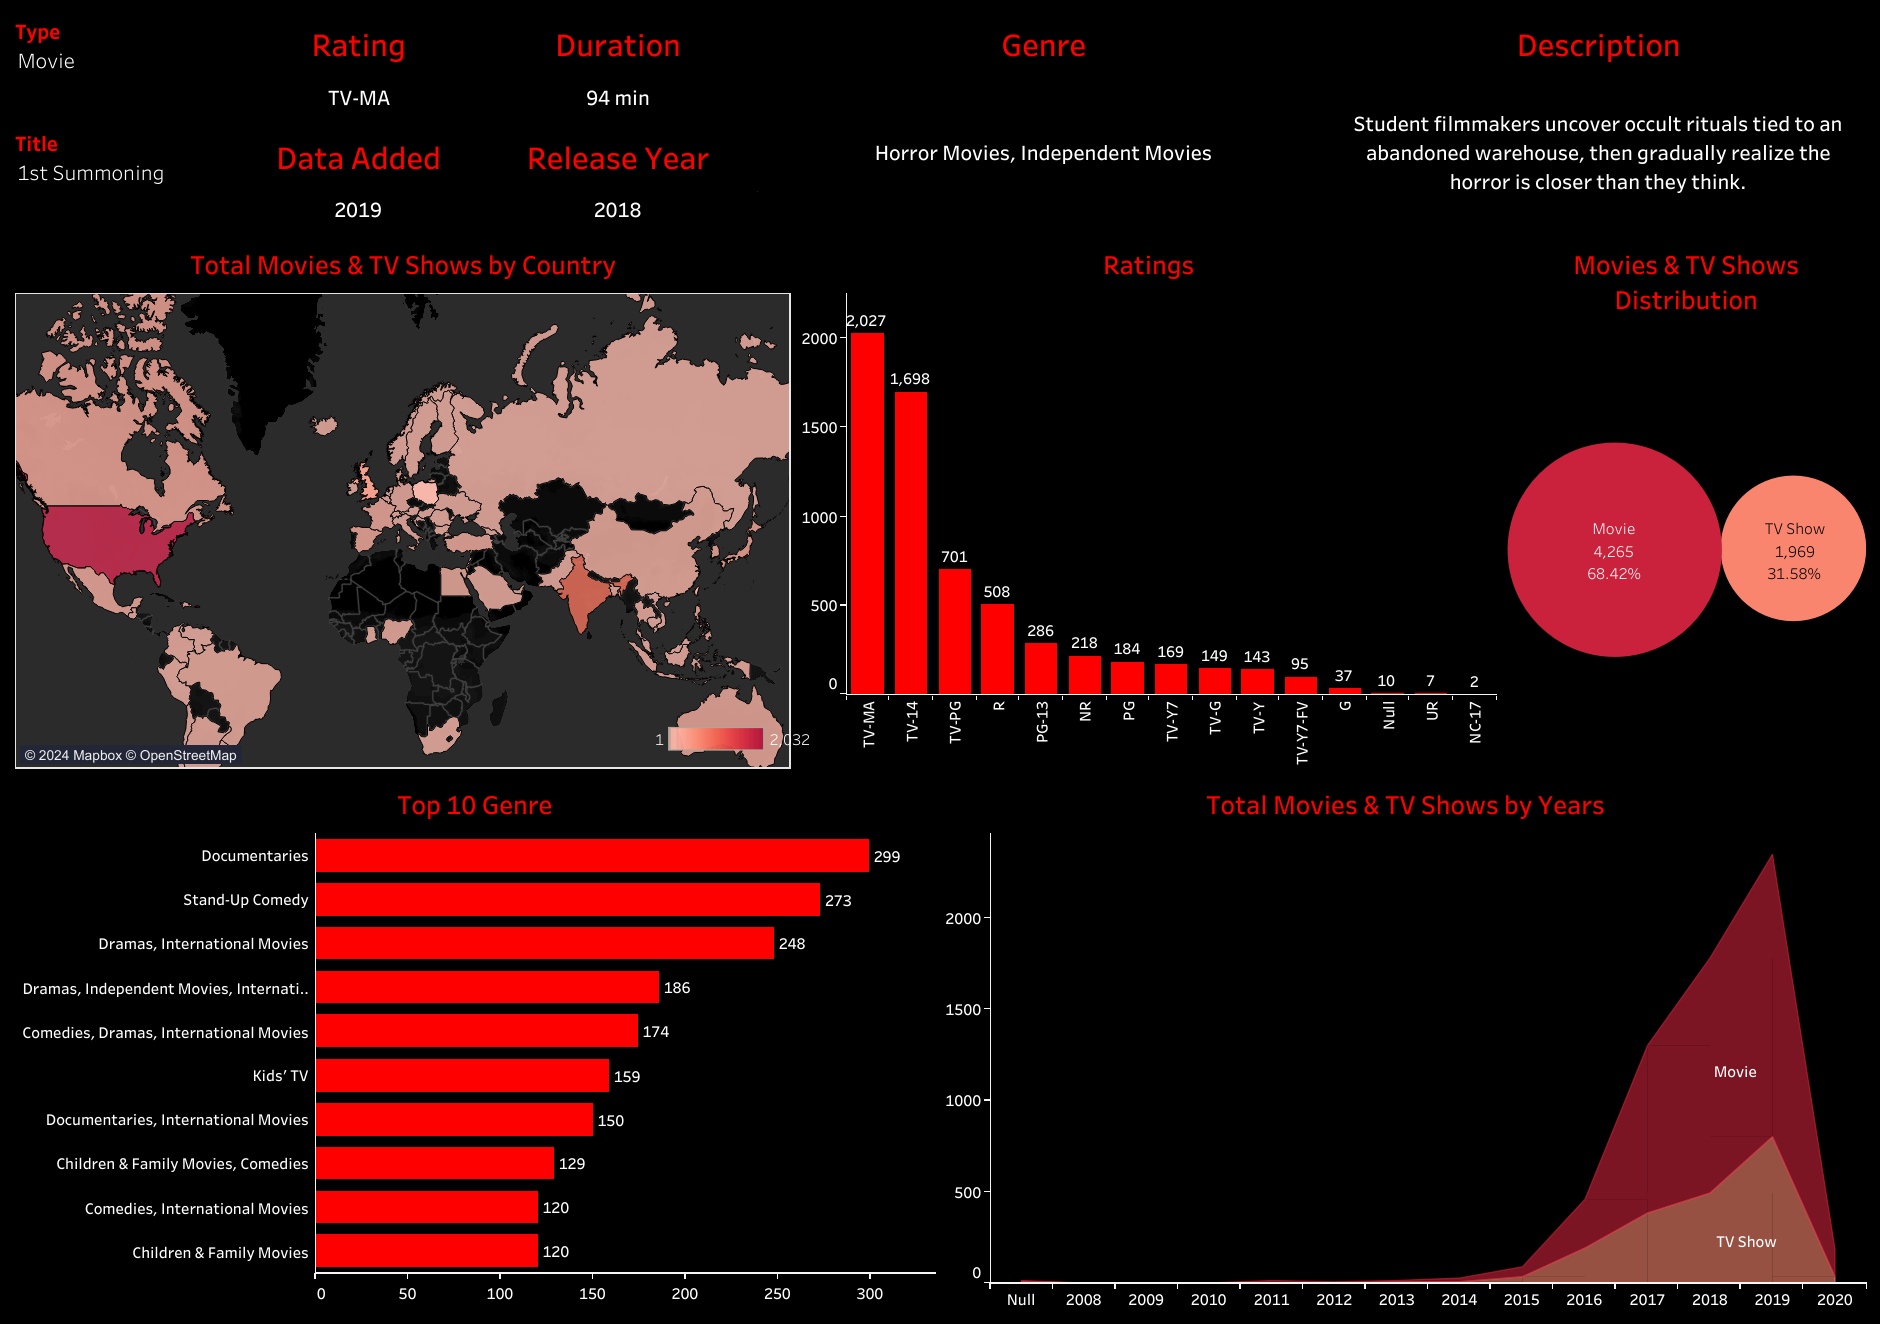

The page's visual inventory and layout, read from the dashboard file:
{"tool":"tableau","page":{"name":"Netflix","canvas":[1000,1000],"units":"permille","ordinal":0},"visuals":[{"type":"filter","title":"Description","param":"[federated.14z8bpn1iibscj1fbzpi71k5y1hq].[none:type:nk]","box":[4.9,7.5,123.8,84.9]},{"type":"worksheet","title":"Rating","mark":"Automatic","box":[128.7,7.5,123.8,84.9]},{"type":"worksheet","title":"Duration","mark":"Automatic","box":[252.4,7.5,151.8,84.4]},{"type":"worksheet","title":"Genre","mark":"Automatic","box":[404.3,7.5,300.9,168.9]},{"type":"worksheet","title":"Description","mark":"Automatic","box":[705.2,7.5,289.9,168.9]},{"type":"worksheet","title":"Release Year","mark":"Automatic","box":[252.4,92,151.8,84.4]},{"type":"filter","title":"Description","param":"[federated.14z8bpn1iibscj1fbzpi71k5y1hq].[none:title:nk]","box":[4.9,92.5,123.8,84]},{"type":"worksheet","title":"Date Added","mark":"Automatic","box":[128.7,92.5,123.8,84]},{"type":"worksheet","title":"Total Movies & TV Shows by Country","mark":"Multipolygon","box":[4.9,176.4,418.4,408]},{"type":"worksheet","title":"Ratings","mark":"Automatic","rows":["show_id"],"cols":["rating"],"box":[423.2,176.4,375,408]},{"type":"worksheet","title":"Movies & TV Shows Distribution","mark":"Circle","box":[798.3,176.4,196.8,408]},{"type":"legend","title":"Total Movies & TV Shows by Country","param":"[federated.14z8bpn1iibscj1fbzpi71k5y1hq].[ctd:show_id:qk]","box":[345.6,545.3,88.1,44.3]},{"type":"worksheet","title":"Top 10 Genre","mark":"Automatic","rows":["listed_in"],"cols":["show_id"],"box":[4.9,584.4,495.1,408]},{"type":"worksheet","title":"Total Movies & TV Shows by Years","mark":"Area","rows":["show_id"],"cols":["date_added"],"box":[500,584.4,495.1,408]}]}

Visuals, with their boxes on the dashboard's canvas, which has no fixed pixel size, in thousandths of its width and height (x1, y1, x2, y2). These are canvas units, not pixel positions in the 1880x1324 screenshot, which may show the page scaled, cropped or inside an application window:
"Description" filter: <bbox>5, 8, 129, 92</bbox>
"Rating" worksheet: <bbox>129, 8, 252, 92</bbox>
"Duration" worksheet: <bbox>252, 8, 404, 92</bbox>
"Genre" worksheet: <bbox>404, 8, 705, 176</bbox>
"Description" worksheet: <bbox>705, 8, 995, 176</bbox>
"Release Year" worksheet: <bbox>252, 92, 404, 176</bbox>
"Description" filter: <bbox>5, 92, 129, 176</bbox>
"Date Added" worksheet: <bbox>129, 92, 252, 176</bbox>
"Total Movies & TV Shows by Country" worksheet (Multipolygon marks): <bbox>5, 176, 423, 584</bbox>
"Ratings" worksheet: <bbox>423, 176, 798, 584</bbox>
"Movies & TV Shows Distribution" worksheet (Circle marks): <bbox>798, 176, 995, 584</bbox>
"Total Movies & TV Shows by Country" legend: <bbox>346, 545, 434, 590</bbox>
"Top 10 Genre" worksheet: <bbox>5, 584, 500, 992</bbox>
"Total Movies & TV Shows by Years" worksheet (Area marks): <bbox>500, 584, 995, 992</bbox>
